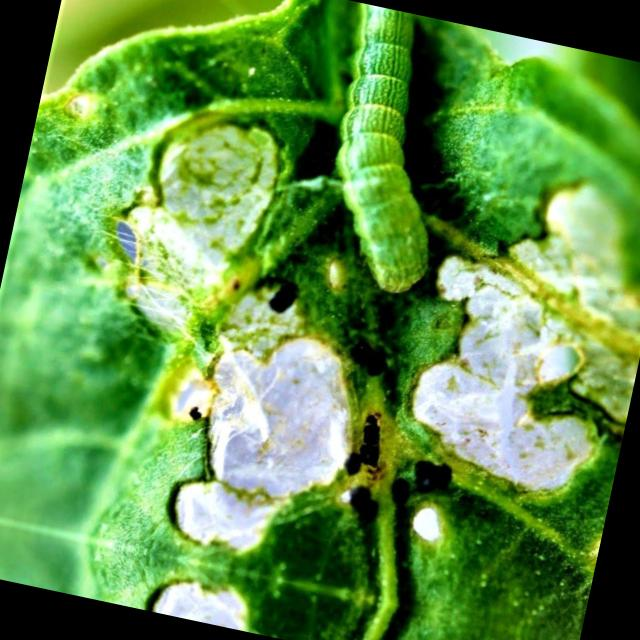Armyworm: (242, 1, 506, 318)
